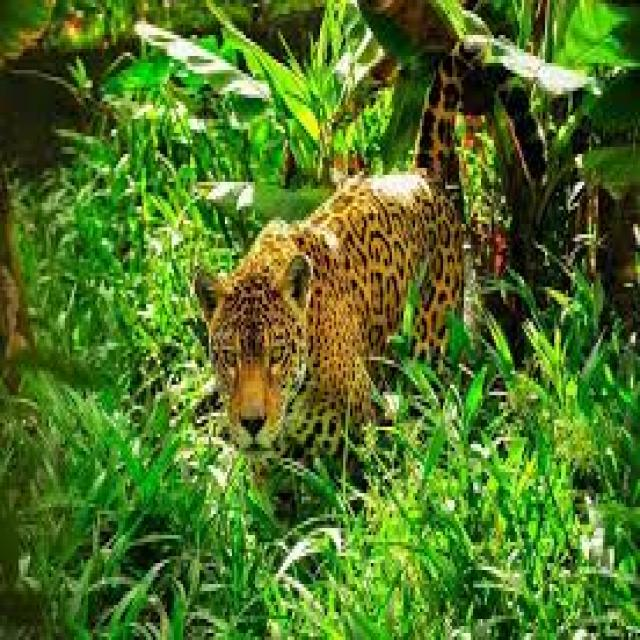Jaguar: (183, 161, 494, 455)
